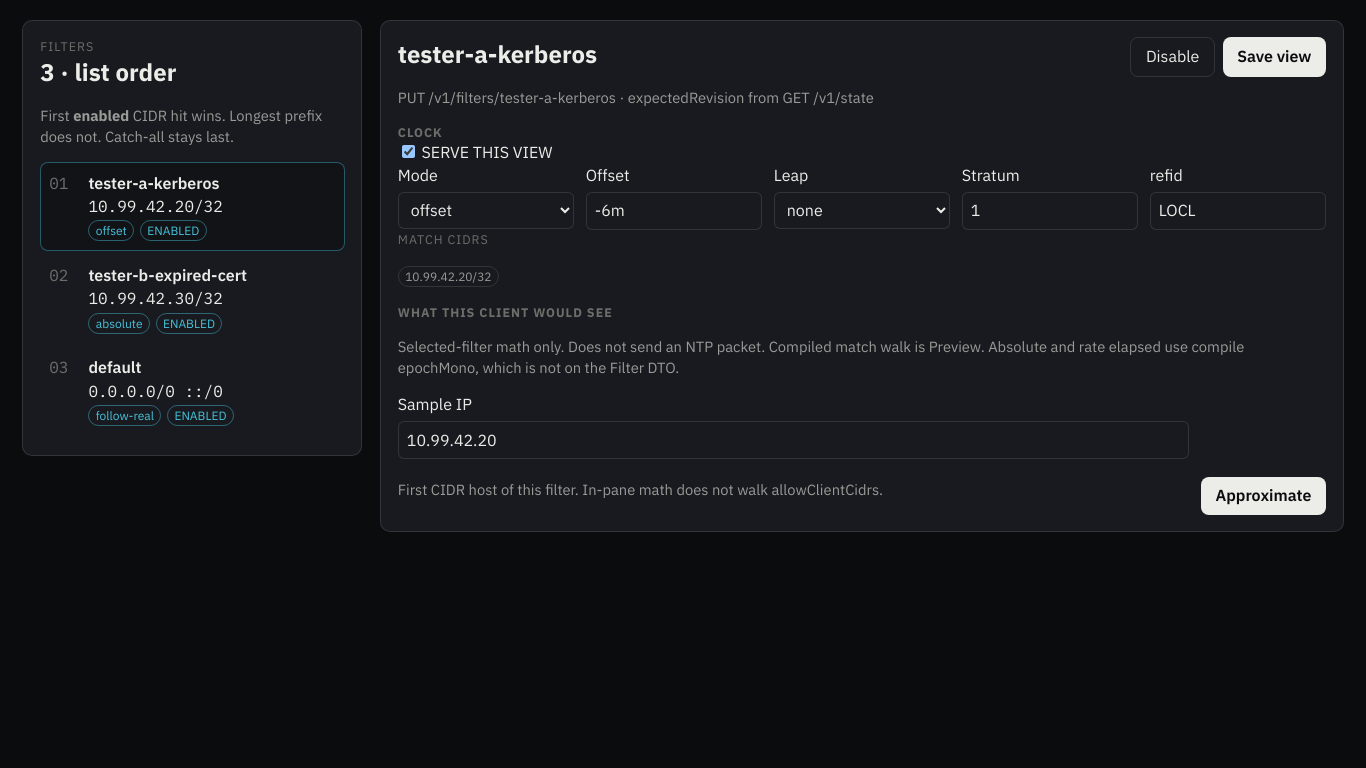
FiltersPage › shows only the mode-conditional field for the selected mode
This screenshot has width=1366, height=768.
Expected: the field labelled "Offset" is shown, x1=586 y1=192 x2=762 y2=230
Expected: the field labelled "freezeAt" is not shown
Step 1. Click the button "02 tester-b-expired-cert10.99.42.30/32 absolute ENABLED" → (192, 299), box x1=40 y1=254 x2=345 y2=344
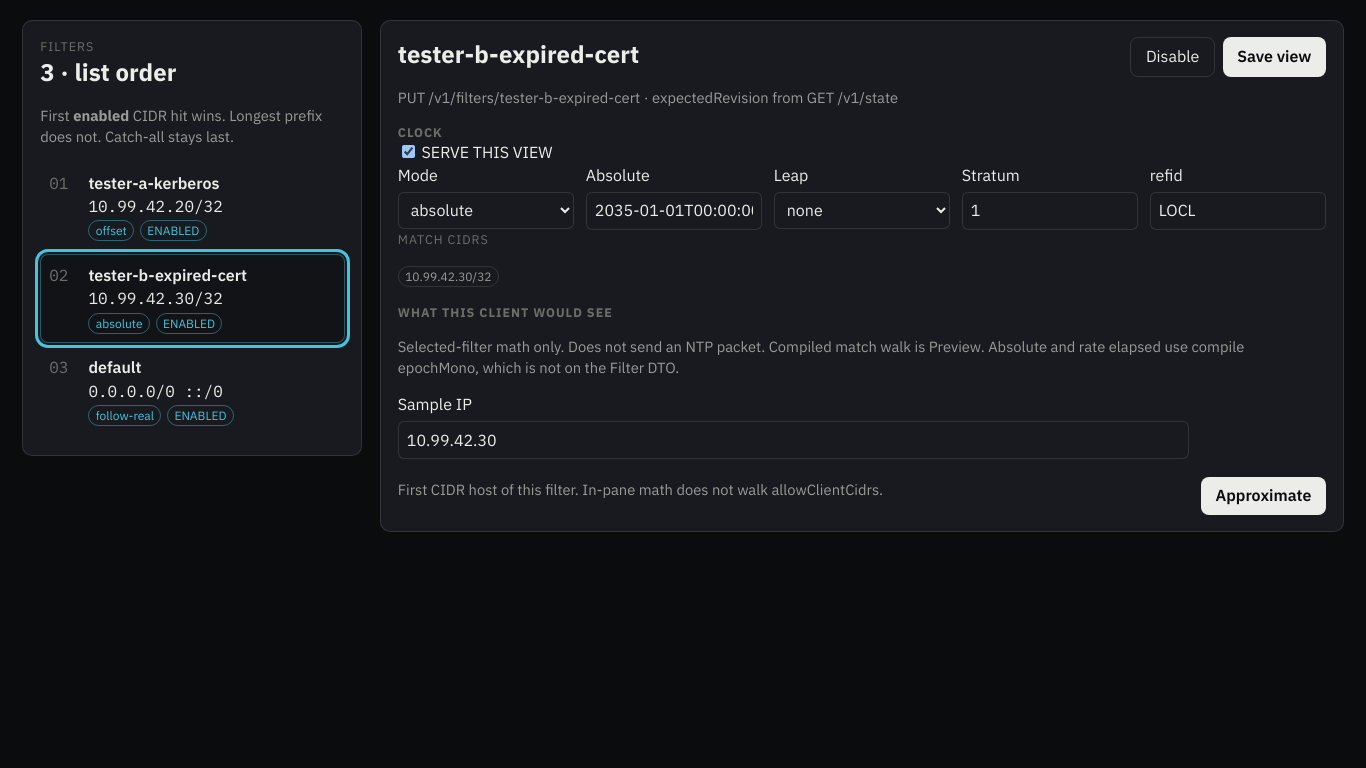
Result: the field labelled "Absolute" is shown at x1=586 y1=192 x2=762 y2=230
Step 2. Select "freeze" in the dropdown labelled "Mode" → (486, 210), box x1=398 y1=192 x2=574 y2=229
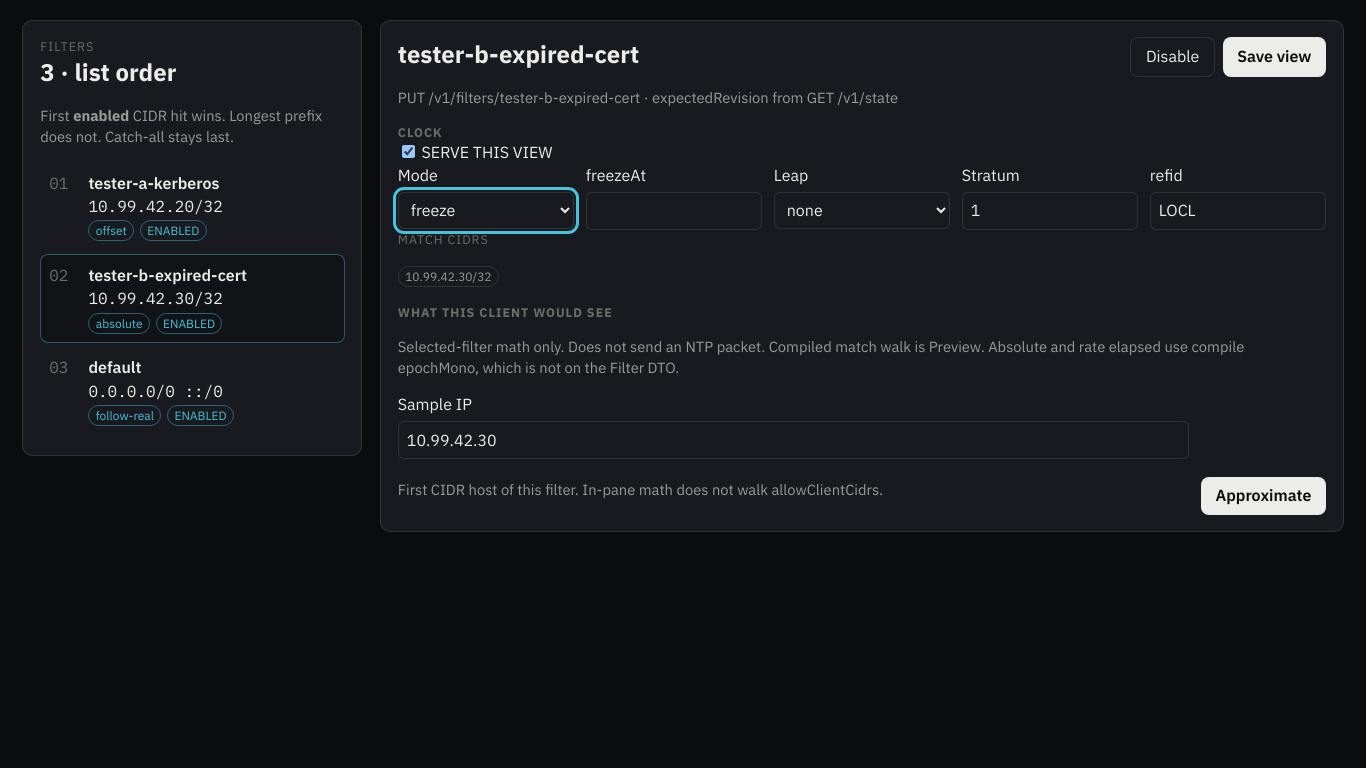
Result: the field labelled "freezeAt" is shown at x1=586 y1=192 x2=762 y2=230
Step 3. Select "rate" in the dropdown labelled "Mode" → (486, 210), box x1=398 y1=192 x2=574 y2=229
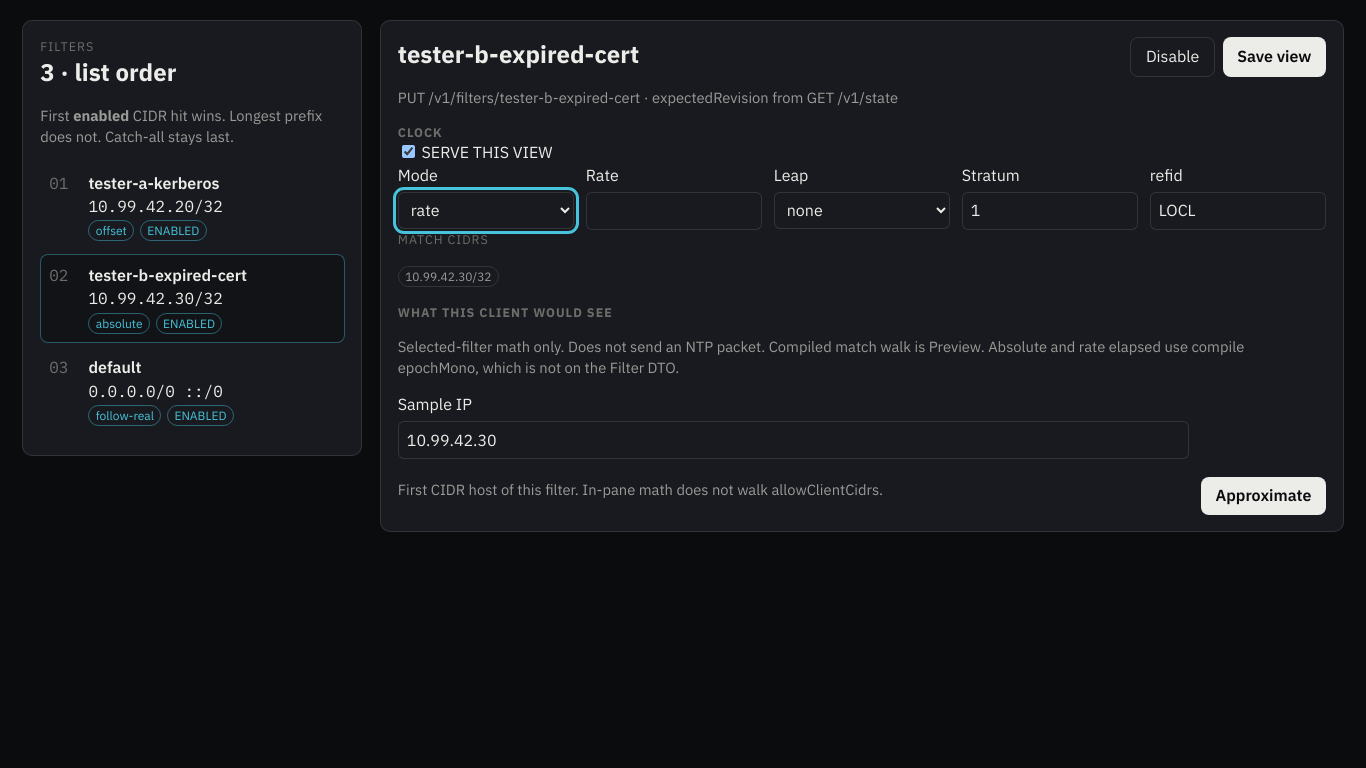
Expected: the field labelled "Rate" is shown, x1=586 y1=192 x2=762 y2=230
Result: the label labelled "freezeAt" is gone
Step 4. Select "follow-real" in the dropdown labelled "Mode" → (486, 210), box x1=398 y1=192 x2=574 y2=229
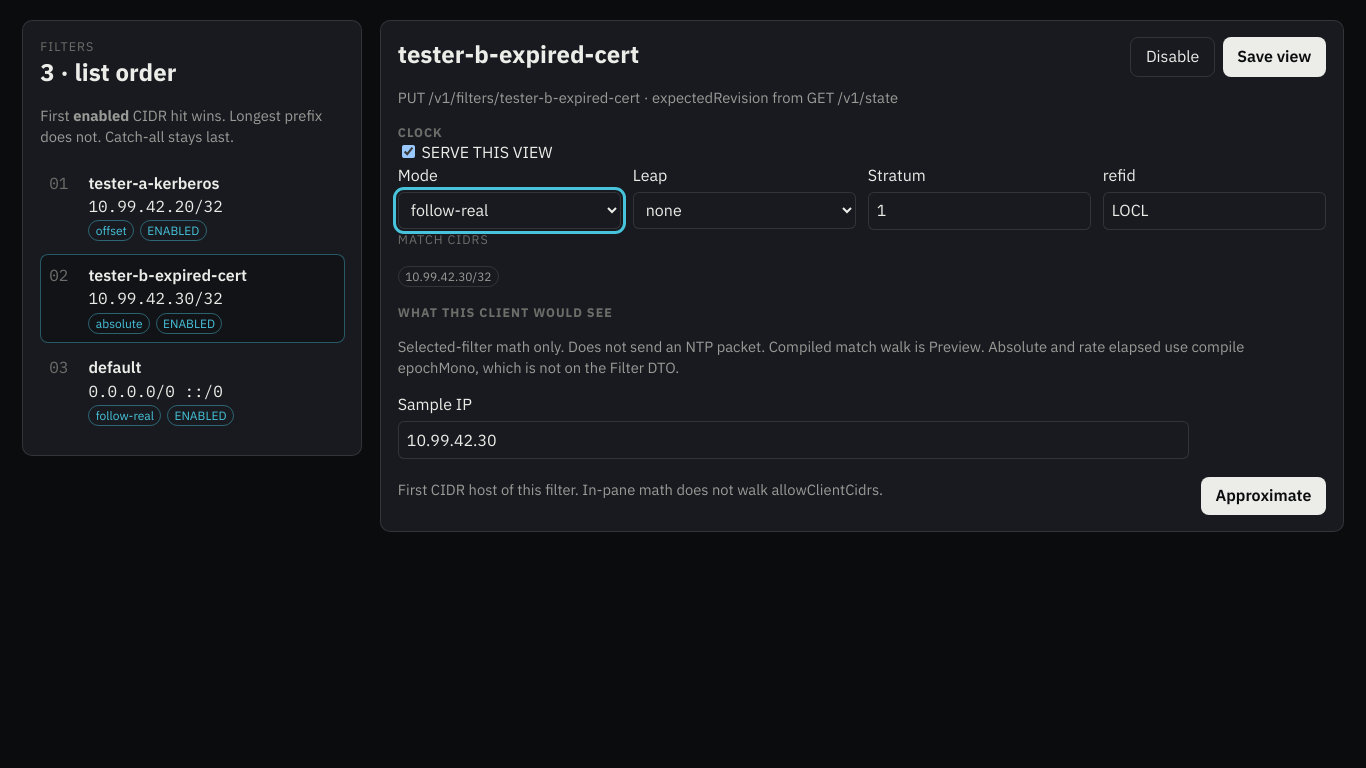
Result: the label labelled "Rate" is gone
